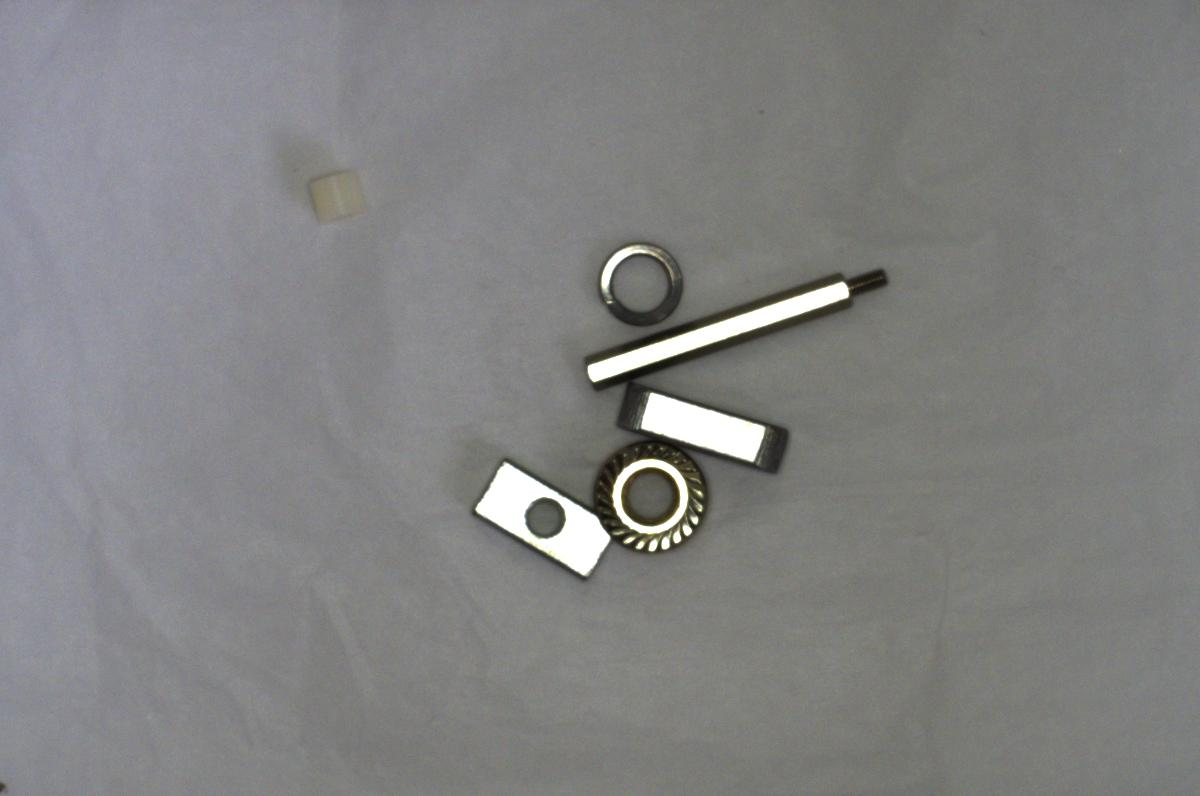Flange nut: (593, 435, 715, 556)
Hexagonal steel column: (573, 260, 897, 389)
Keybar: (607, 383, 799, 483)
Plastic cushion pillar: (305, 153, 375, 234)
Rectangular nut: (470, 453, 615, 582)
Spring washer: (592, 235, 684, 329)
